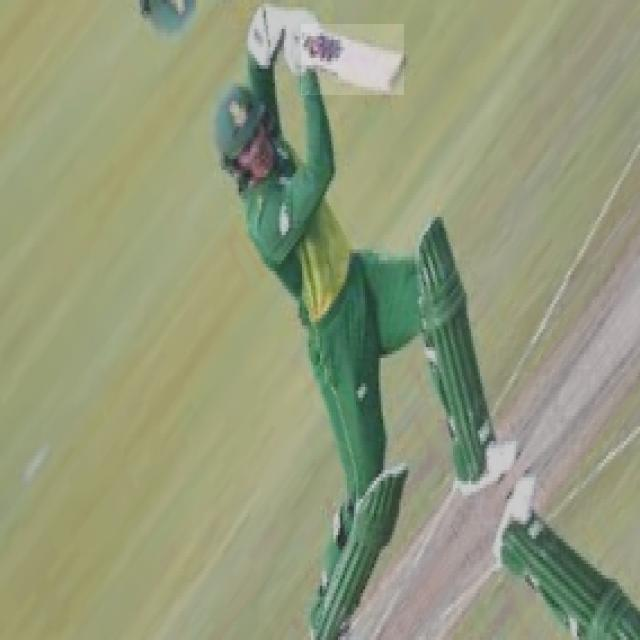bat: (295, 23, 403, 95)
toe: (386, 60, 401, 94)
